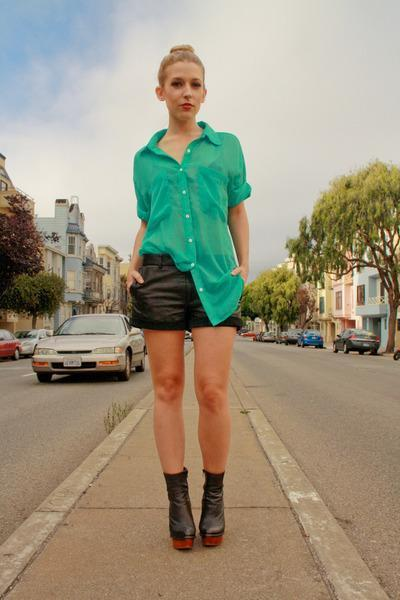shirt: (133, 121, 250, 323)
shoe: (164, 468, 224, 552)
shorts: (125, 252, 252, 332)
